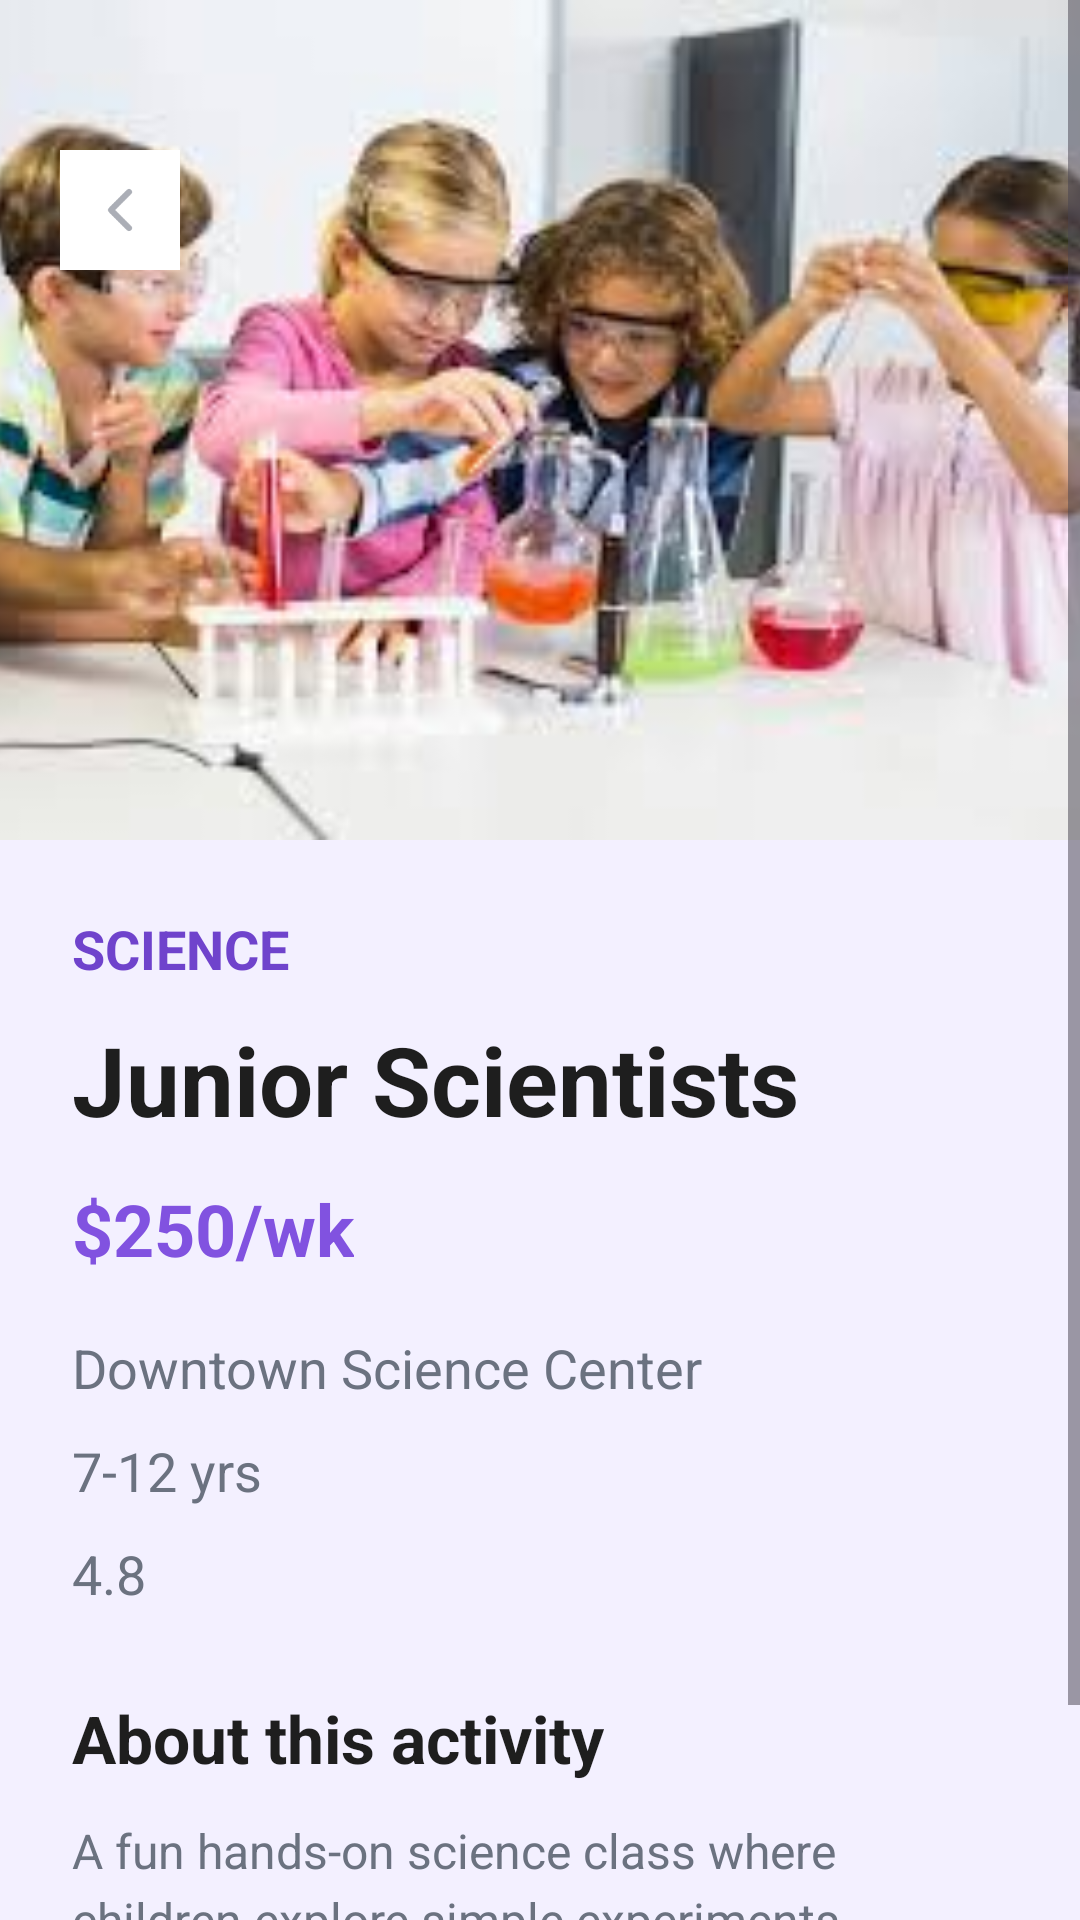

Icon click points for this 1080 x 1920 phone screenshot, format [x,y]:
Back: [120,210]
